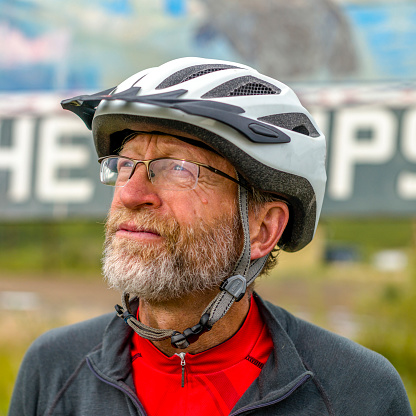helmet: (61, 57, 327, 301)
